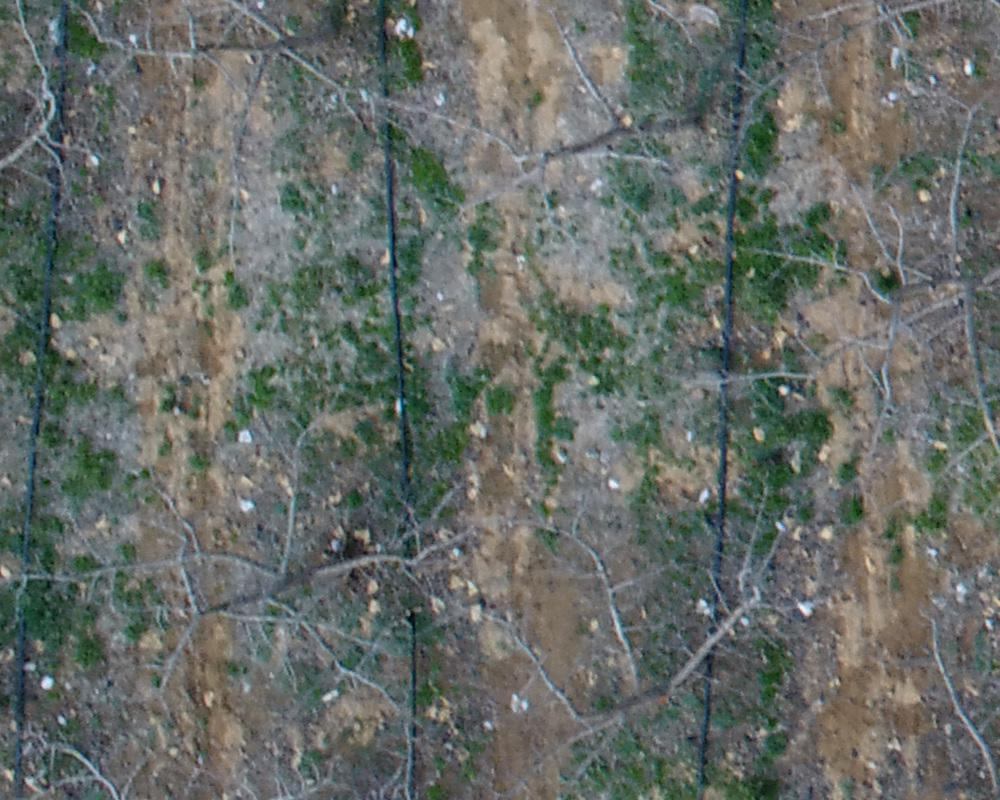apple: (19, 417, 497, 723), (731, 92, 990, 554), (472, 509, 840, 790), (332, 29, 725, 253), (28, 10, 385, 170)
